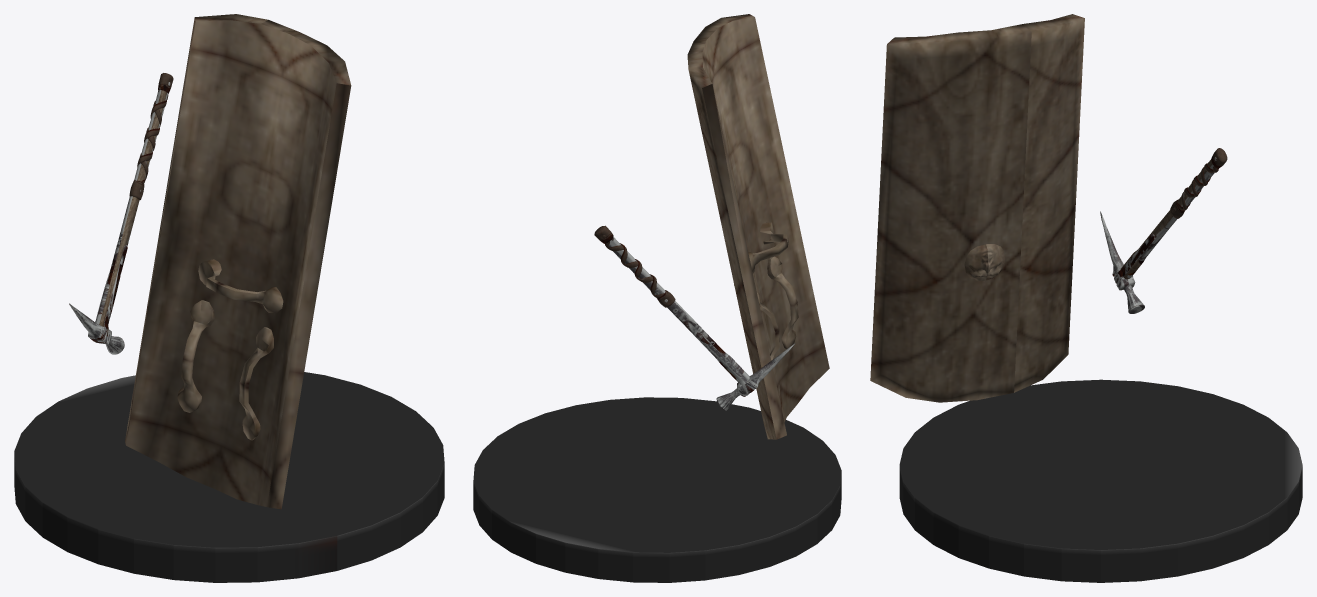
3 views of the same model, side by side, from view 1: azimuth 30°, elevation 25°; view 2: azimuth 150°, elevation 25°; view 3: azimuth 270°, elevation 25° (orthographic). The views are drawn at different scales.
Visible parts, largest first — view 1: warhammer.smd; view 2: warhammer.smd; view 3: warhammer.smd.
Part boxes in pixels (x1,y1,x2,y2): warhammer.smd: (14, 14, 444, 582); warhammer.smd: (473, 14, 841, 582); warhammer.smd: (870, 14, 1302, 582).
Bounding box in the file's own units: 1 × 1.28 × 1.07.
1 material, 1 textured.
